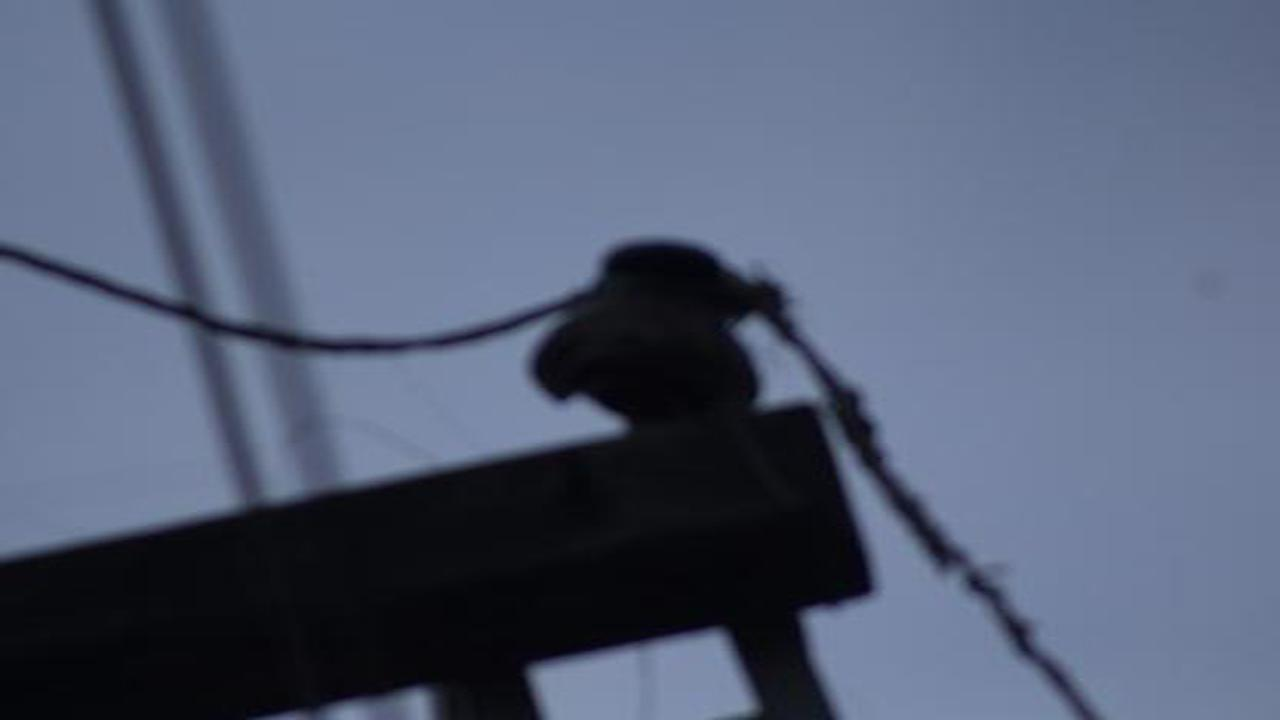defect_pin: (517, 232, 782, 428)
